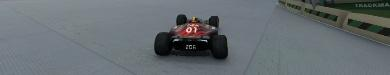Car: (153, 14, 228, 59)
obstacles-Borders: (276, 0, 389, 50)
